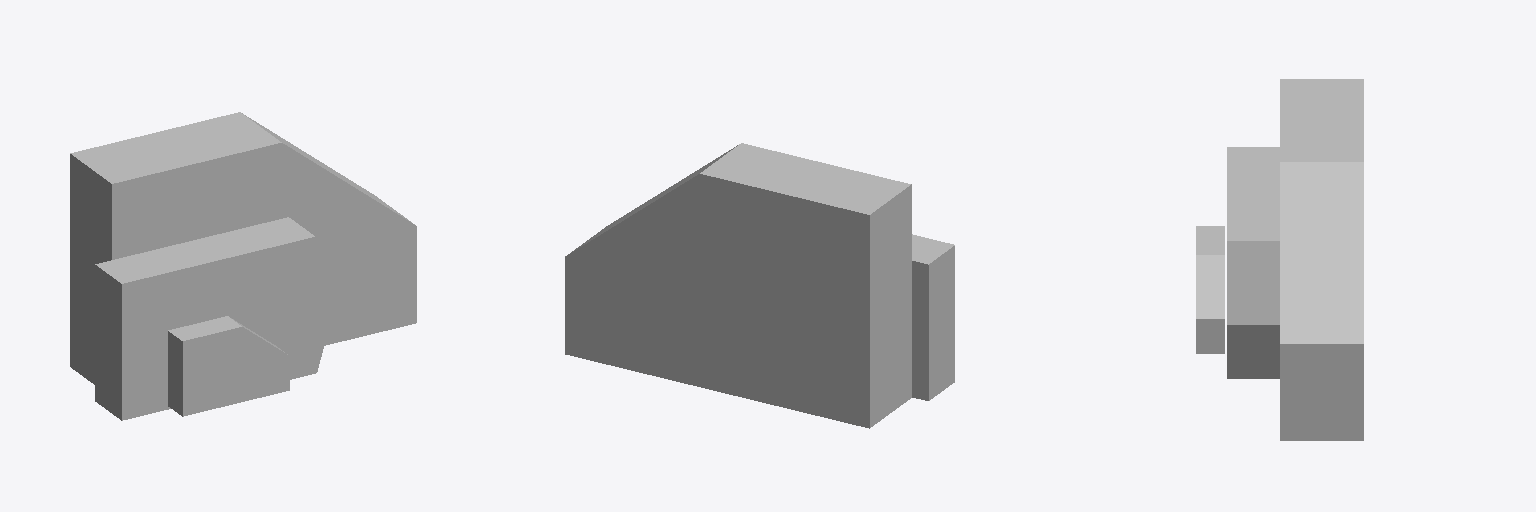
File: Platform1.obj
3 views of the same model, side by side, from view 1: azimuth 30°, elevation 25°; view 2: azimuth 150°, elevation 25°; view 3: azimuth 270°, elevation 25° (orthographic).
Parts seen in each view (by area): view 1: pCube26; view 2: pCube26; view 3: pCube26.
Boxes of the visible parts, <box> form: pCube26: <box>70,112,416,420</box>; pCube26: <box>565,143,954,428</box>; pCube26: <box>1196,79,1363,440</box>.
Bounding box in the file's own units: 10.59 × 6.72 × 4.8.